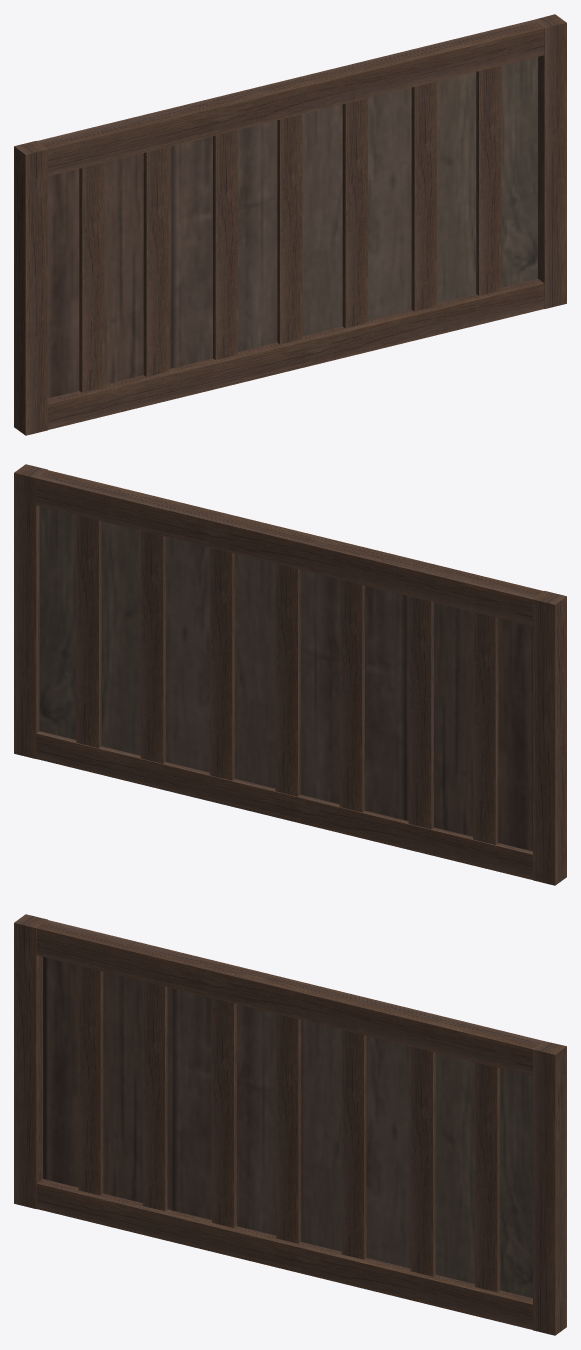
The model's file is hikido09ar.fbx.
The picture shows the model from 3 angles, top to bottom: view 1: azimuth 30°, elevation 25°; view 2: azimuth 150°, elevation 25°; view 3: azimuth 330°, elevation 25°; orthographic projection.
Parts seen in each view (by area): view 1: hikido09ar; view 2: hikido09ar; view 3: hikido09ar.
Part boxes in pixels (x1,y1,x2,y2): hikido09ar: [14, 14, 566, 435]; hikido09ar: [14, 464, 566, 885]; hikido09ar: [14, 914, 566, 1335].
Size of the model in its own units: 110 by 54.42 by 4.15.
